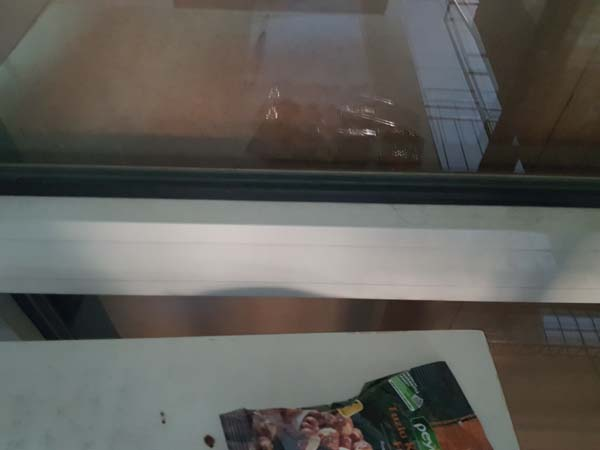peysankavrulmusfindik: (221, 357, 495, 450)
